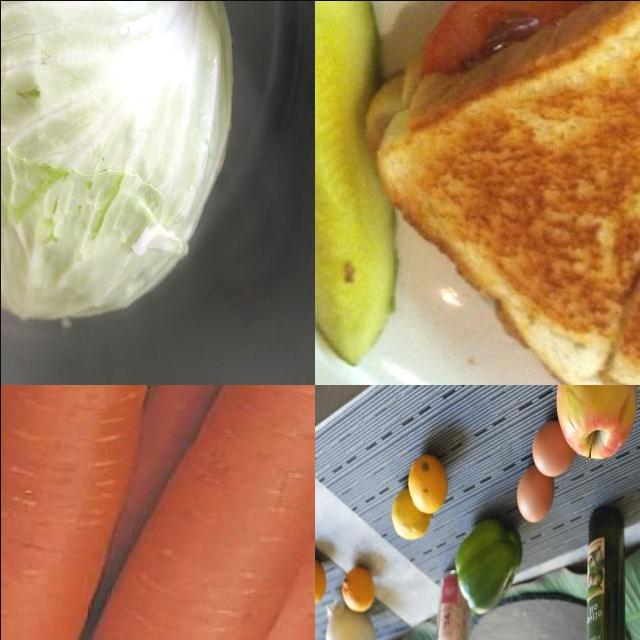bell_pepper: (449, 514, 525, 614)
cabbage: (1, 1, 238, 332)
carrot: (68, 385, 315, 640), (1, 385, 193, 640)
cucumber: (315, 1, 395, 364)
egg: (533, 417, 579, 477), (517, 467, 555, 523)
onion: (322, 598, 382, 640)
